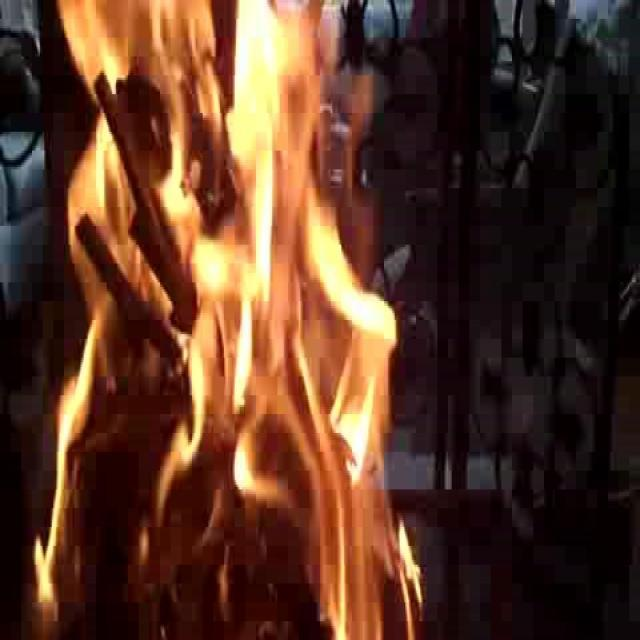Fire: (35, 5, 393, 640)
